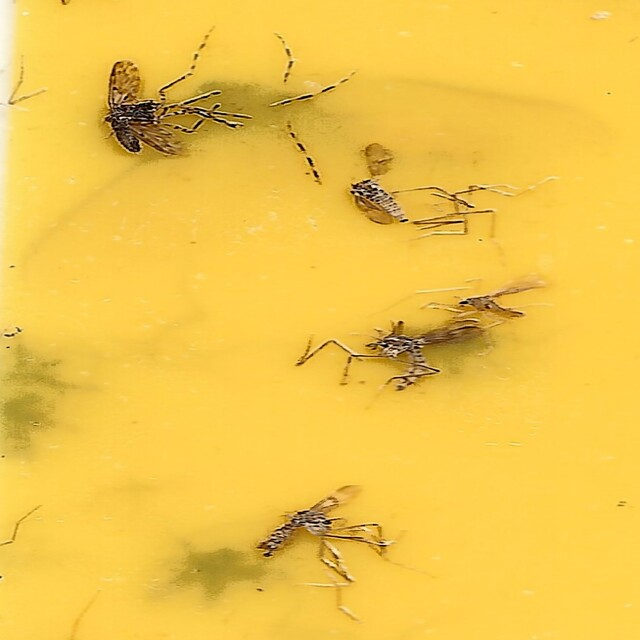Nematocera: (98, 57, 251, 159), (259, 484, 389, 583), (366, 322, 489, 393), (348, 141, 410, 229), (451, 276, 542, 321)
